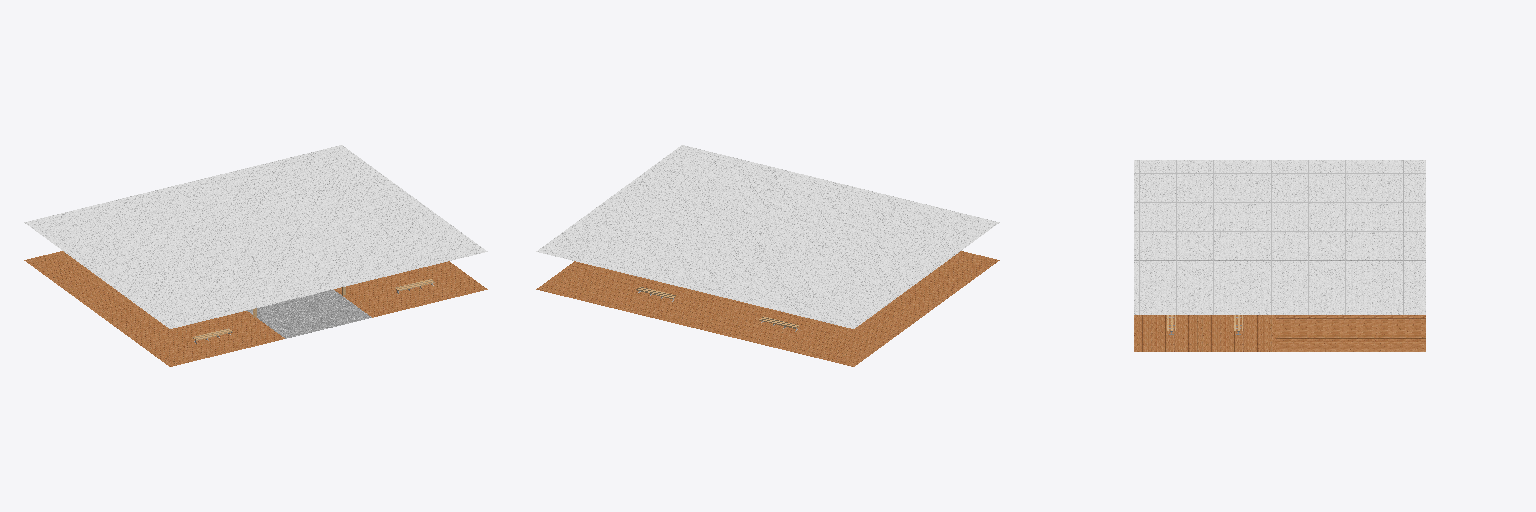
3 renders of one model, left to right at view 1: azimuth 30°, elevation 25°; view 2: azimuth 150°, elevation 25°; view 3: azimuth 270°, elevation 25°, orthographic.
Parts seen in each view (by area): view 1: filler_model pPlane11, filler_model pPlane10, filler_model pPlane12, filler_model pPlane13, pPlane14 filler_model; view 2: filler_model pPlane11, pPlane14 filler_model, filler_model pPlane10; view 3: filler_model pPlane11, pPlane14 filler_model, filler_model pPlane12.
Part boxes in pixels (left/top/right/bottom): filler_model pPlane11: left=24, top=145, right=487, bottom=328; filler_model pPlane10: left=99, top=306, right=284, bottom=366; filler_model pPlane12: left=334, top=261, right=487, bottom=317; filler_model pPlane13: left=247, top=289, right=371, bottom=338; pPlane14 filler_model: left=24, top=251, right=136, bottom=314; filler_model pPlane11: left=536, top=145, right=999, bottom=328; pPlane14 filler_model: left=536, top=261, right=928, bottom=366; filler_model pPlane10: left=891, top=251, right=999, bottom=311; filler_model pPlane11: left=1134, top=160, right=1425, bottom=314; pPlane14 filler_model: left=1276, top=315, right=1425, bottom=351; filler_model pPlane12: left=1134, top=315, right=1275, bottom=351.
Bounding box in the file's own units: 44 × 5 × 35.
Materials: 5 (5 with a texture image).